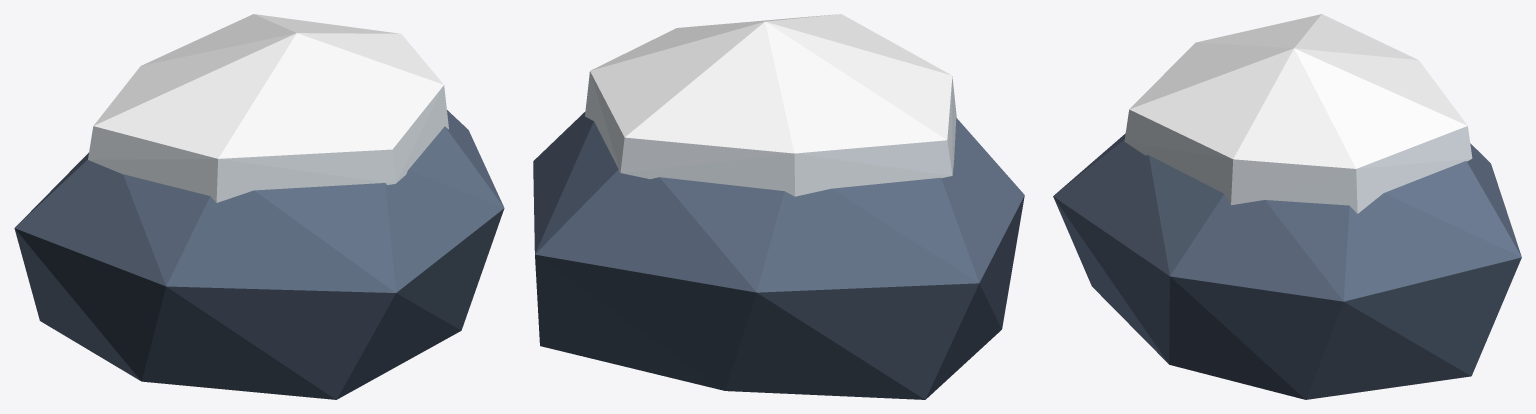
Rendered from stone.obj.
3 views of the same model, side by side, from view 1: azimuth 30°, elevation 25°; view 2: azimuth 150°, elevation 25°; view 3: azimuth 270°, elevation 25° (orthographic). The views are drawn at different scales.
Visible parts, largest first — view 1: Stone; view 2: Stone; view 3: Stone.
Part boxes in pixels (x1,y1,x2,y2): Stone: (14,14,504,399); Stone: (533,14,1024,399); Stone: (1053,14,1521,399).
Size of the model in its own units: 1.69 by 1.01 by 1.6.
